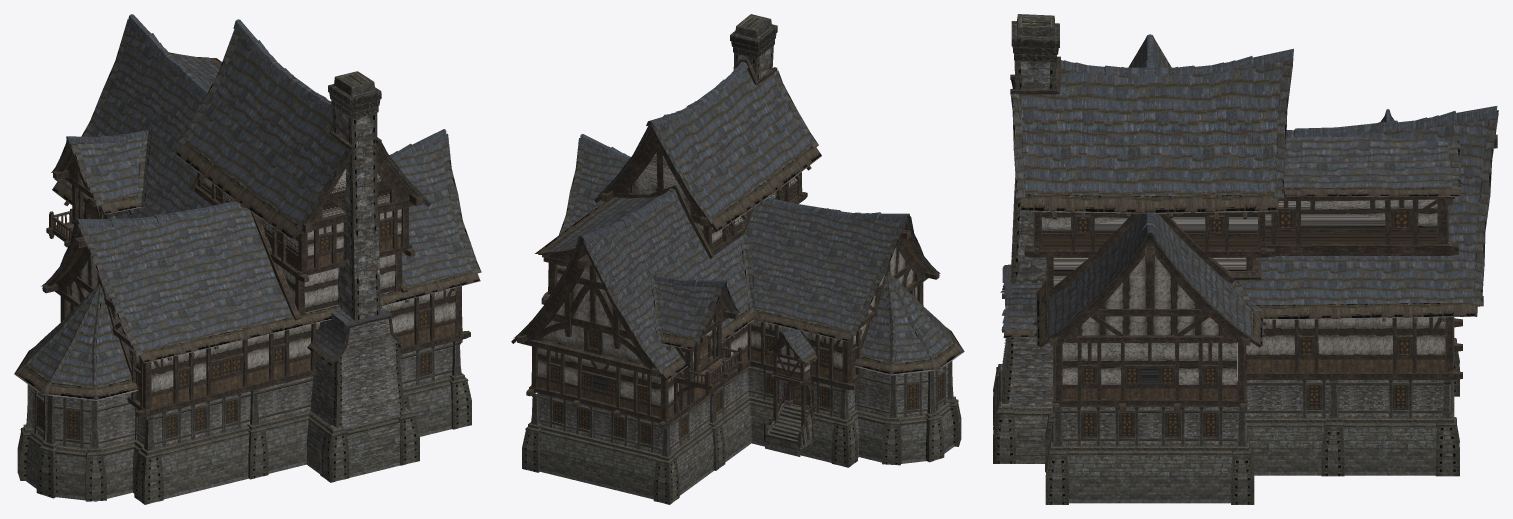
The model's file is eso_gu2_LargeInn-transformed.glb.
The picture shows the model from 3 angles, left to right: view 1: azimuth 30°, elevation 25°; view 2: azimuth 150°, elevation 25°; view 3: azimuth 270°, elevation 25°; orthographic projection. The views are drawn at different scales.
Visible parts, largest first — view 1: default; view 2: default; view 3: default.
Part boxes in pixels (x1=…): default: x1=14, y1=14, x2=481, y2=504; default: x1=511, y1=14, x2=964, y2=504; default: x1=993, y1=14, x2=1498, y2=504.
Bounding box in the file's own units: 55.6 × 48.29 × 52.72.
Materials: 11 (11 with a texture image).
